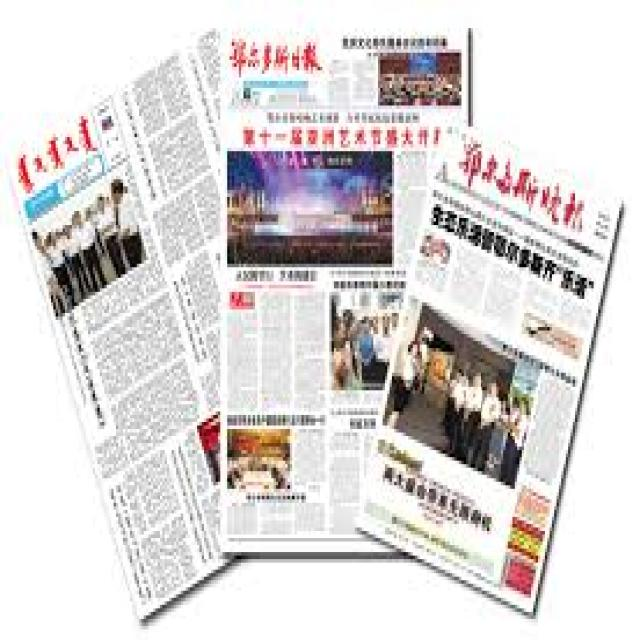paper: (2, 45, 614, 614)
